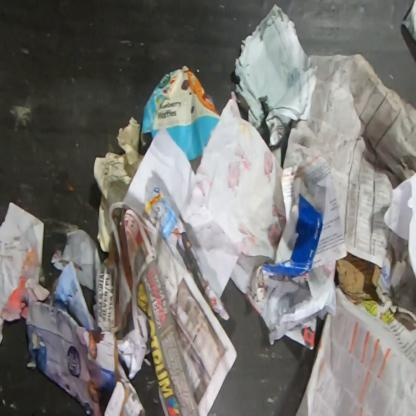cardboard: (25, 299, 103, 416), (140, 64, 222, 161), (261, 193, 323, 278), (43, 260, 95, 331), (336, 252, 382, 306), (95, 331, 116, 393)
